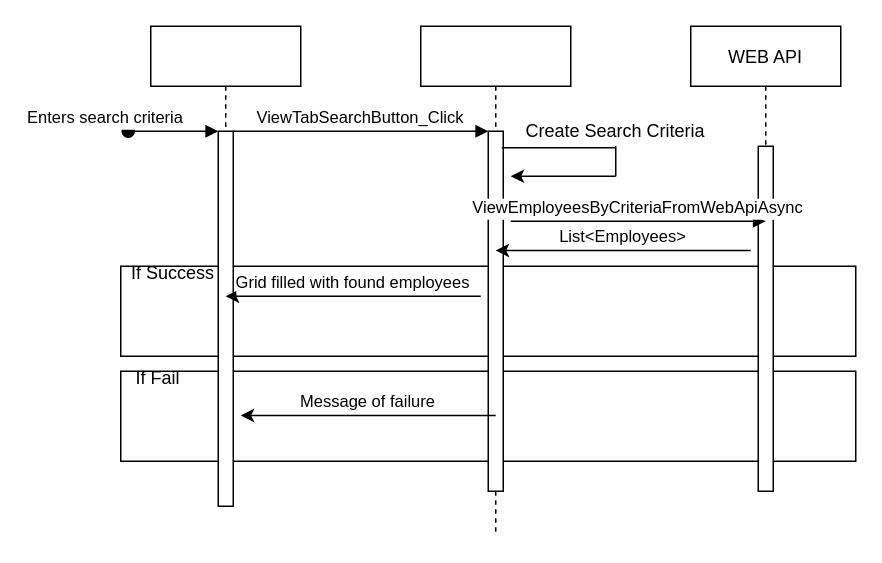
Some shapes in this 882 by 563 pixel diagram are drawn without their labels. Each missing label, with the box of its shape:
APP: (419, 25, 571, 536)
USER: (149, 25, 301, 506)
